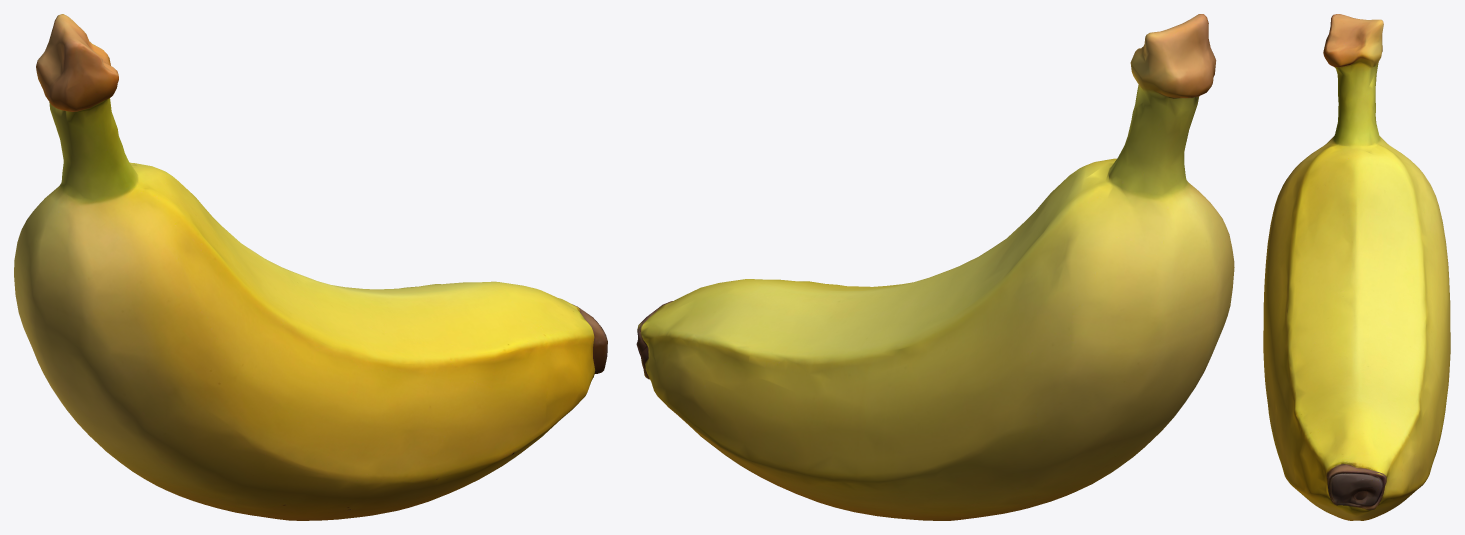
The model's file is banana-v1.glb.
The picture shows the model from 3 angles, left to right: view 1: azimuth 30°, elevation 25°; view 2: azimuth 150°, elevation 25°; view 3: azimuth 270°, elevation 25°; orthographic projection. The views are drawn at different scales.
Visible parts, largest first — view 1: banana_surface; view 2: banana_surface; view 3: banana_surface.
Boxes of the visible parts, x1,y1,x2,y2 form: banana_surface: (14,14,607,520); banana_surface: (636,14,1234,520); banana_surface: (1263,14,1450,520).
Size of the model in its own units: 0.1301 by 0.1213 by 0.0547.
Materials: 1 (1 with a texture image).
